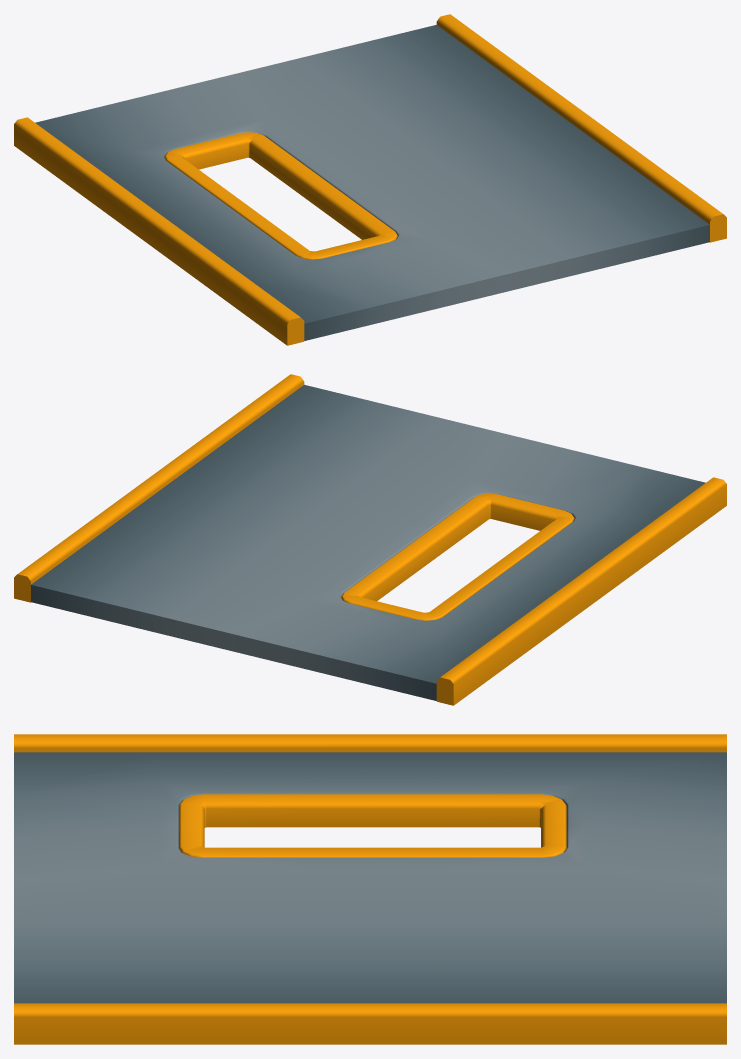
The model's file is platform_017.fbx.
3 renders of one model, top to bottom at view 1: azimuth 30°, elevation 25°; view 2: azimuth 150°, elevation 25°; view 3: azimuth 270°, elevation 25°, orthographic. The views are drawn at different scales.
Parts seen in each view (by area): view 1: platform_017; view 2: platform_017; view 3: platform_017.
Boxes of the visible parts, <box> form: platform_017: <box>14,14,726,345</box>; platform_017: <box>14,374,726,705</box>; platform_017: <box>14,734,726,1044</box>.
Bounding box in the file's own units: 1300 × 1400 × 71.07.
